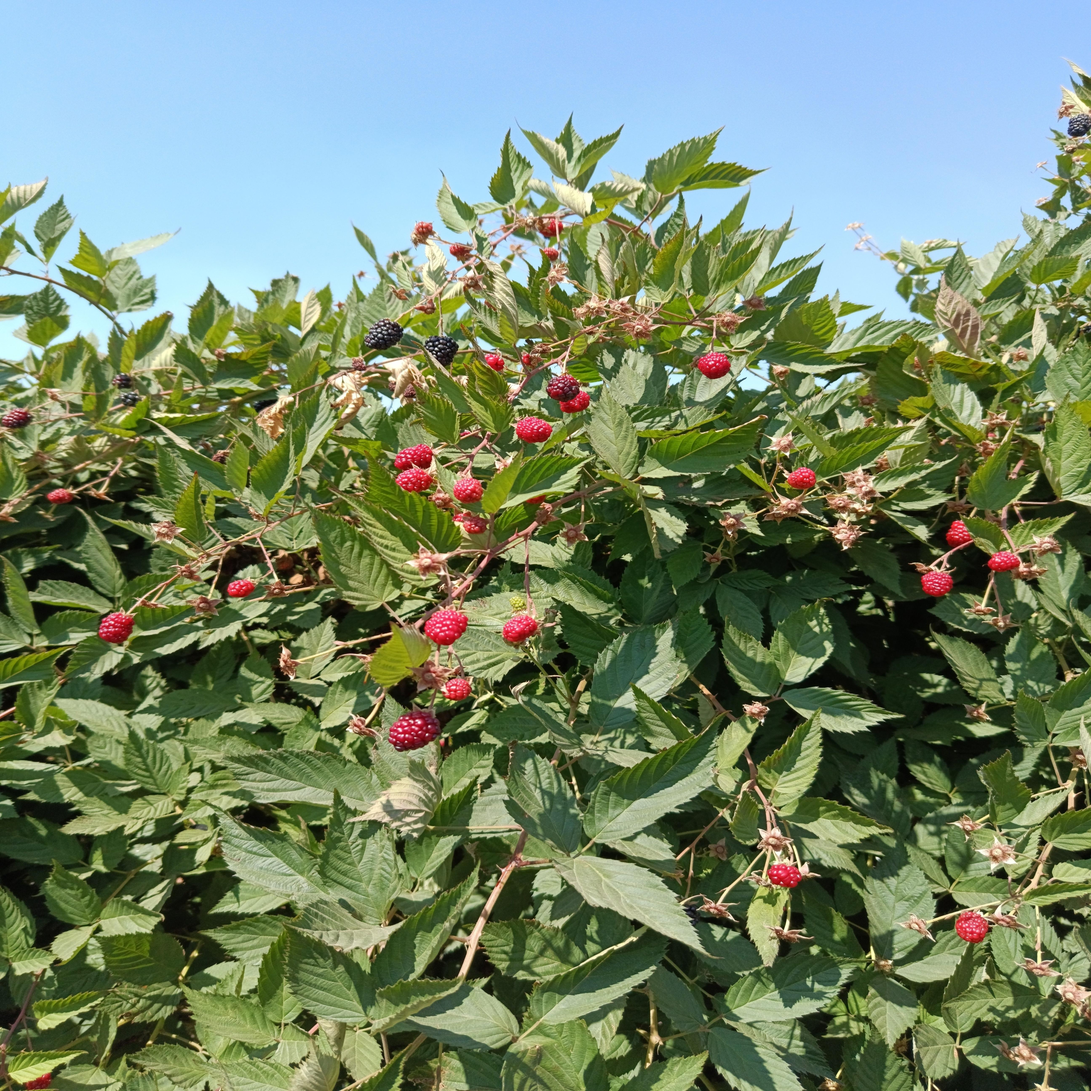maduro: (363, 319, 403, 349), (424, 335, 458, 366), (1068, 113, 1091, 137)
marron: (389, 709, 439, 751), (546, 374, 580, 402), (0, 408, 32, 430)
naranja: (425, 610, 468, 645), (98, 612, 134, 644), (955, 911, 989, 943), (502, 614, 538, 644), (394, 444, 433, 470), (515, 416, 552, 443), (695, 352, 731, 379), (396, 468, 434, 492), (921, 570, 953, 597), (767, 863, 801, 888), (453, 477, 483, 502), (559, 390, 590, 414), (946, 520, 973, 547), (988, 550, 1021, 572), (443, 677, 472, 701), (786, 468, 816, 489), (460, 513, 488, 535), (226, 579, 255, 598), (539, 219, 563, 237)
